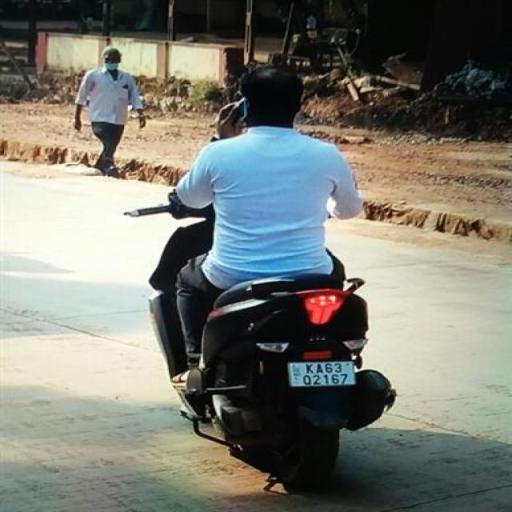numberplate: (288, 360, 358, 388)
using mobile: (213, 88, 254, 136)
